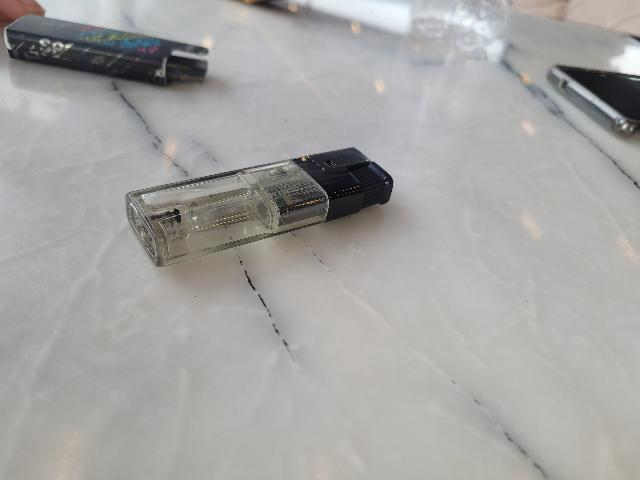Plastik: (124, 142, 401, 267), (0, 0, 222, 101)
